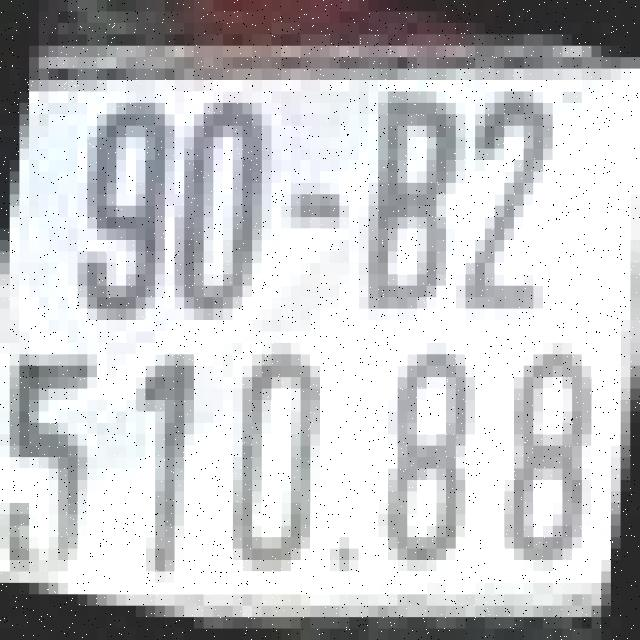0: (228, 343, 325, 571), (174, 97, 262, 314)
1: (131, 343, 199, 571)
2: (465, 86, 553, 314)
5: (5, 348, 102, 566)
8: (504, 343, 592, 560), (383, 343, 470, 560)
9: (72, 97, 170, 314)
B: (359, 86, 456, 314)
